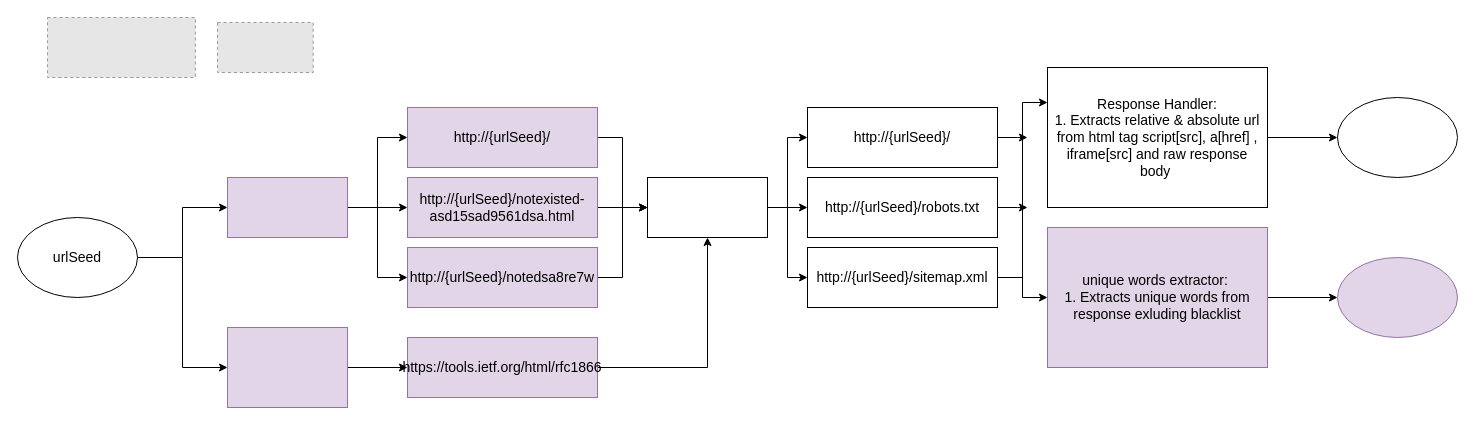
Image size: 1475x425. Some labels were removed from this diagram. Grey dashed boxes stand in for pictures. The centre of each missing label's shape, as x and y in pixels:
active crawler: pixel 707 207
boring response leaner: pixel 287 207
crawling queue: pixel 1397 137
unqiue words blacklist learner: pixel 287 367
unqiue-words.txt: pixel 1397 297
